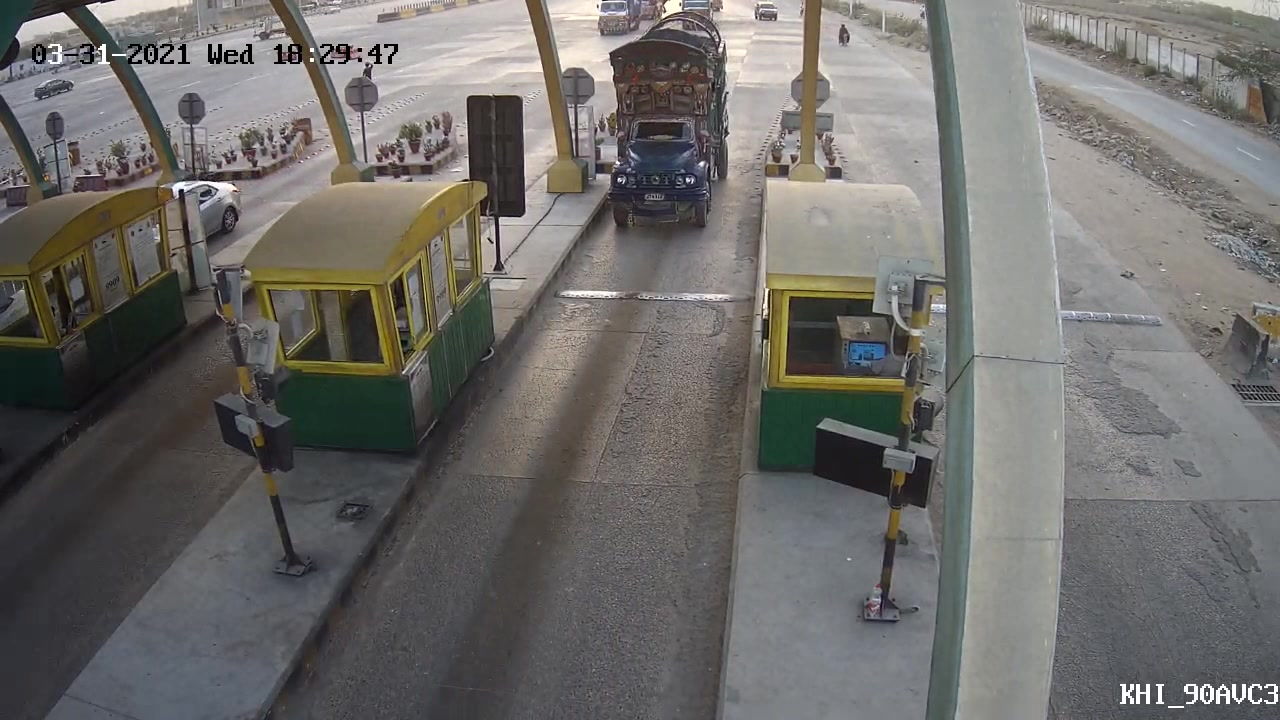F5: (596, 26, 732, 240)
